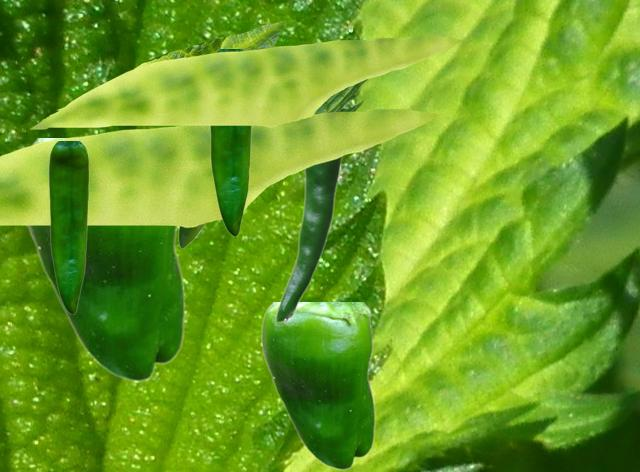green_chili: (24, 138, 184, 381), (260, 302, 374, 469), (274, 157, 342, 322), (209, 49, 252, 235), (48, 141, 88, 313), (178, 223, 207, 247)
